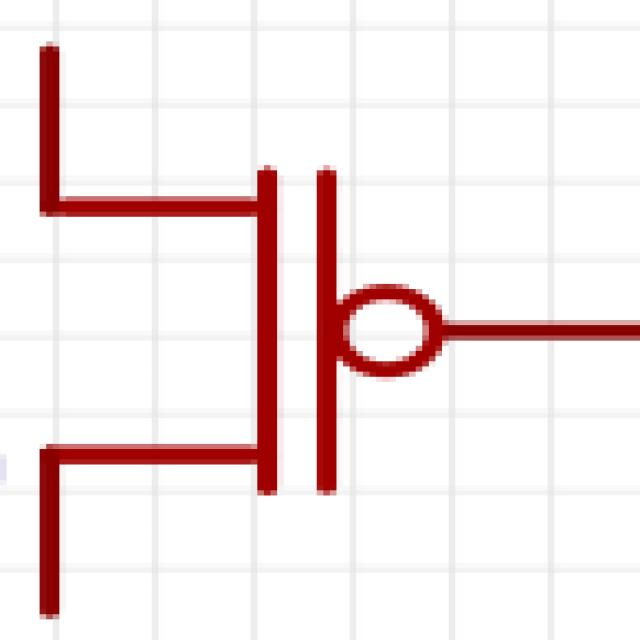pmos: (0, 88, 640, 619)
